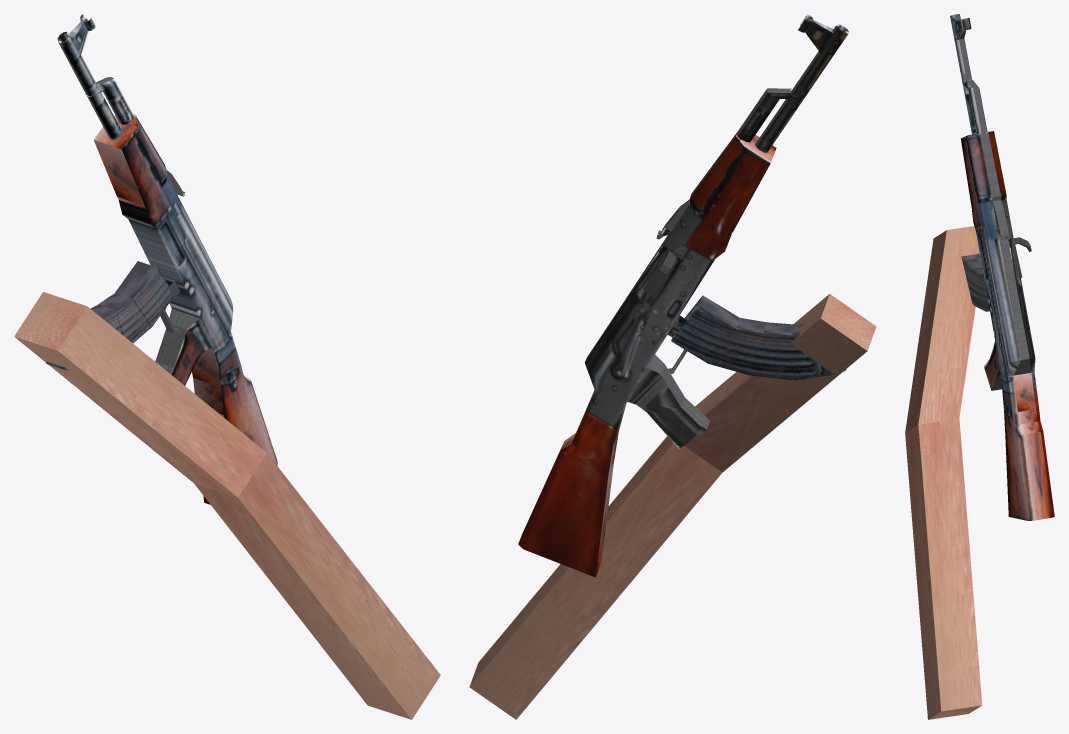
The picture shows the model from 3 angles, left to right: view 1: azimuth 30°, elevation 25°; view 2: azimuth 150°, elevation 25°; view 3: azimuth 270°, elevation 25°; orthographic projection. The views are drawn at different scales.
Parts seen in each view (by area): view 1: Cube.001_Cube.006, Cube.007_Cube.005, Cube.002_Cube.003; view 2: Cube.007_Cube.005, Cube.001_Cube.006, Cube.002_Cube.003, Plane; view 3: Cube.001_Cube.006, Cube.007_Cube.005, Cube.002_Cube.003.
Part boxes in pixels (x1,y1,x2,y2): Cube.001_Cube.006: (14, 292, 440, 719); Cube.007_Cube.005: (57, 14, 277, 504); Cube.002_Cube.003: (46, 261, 173, 370); Cube.007_Cube.005: (518, 14, 848, 577); Cube.001_Cube.006: (469, 294, 876, 719); Cube.002_Cube.003: (671, 295, 846, 380); Plane: (643, 250, 678, 298); Cube.001_Cube.006: (905, 226, 982, 719); Cube.007_Cube.005: (950, 14, 1054, 520); Cube.002_Cube.003: (961, 254, 989, 311).
Bounding box in the file's own units: 6.72 × 12.05 × 2.78.
